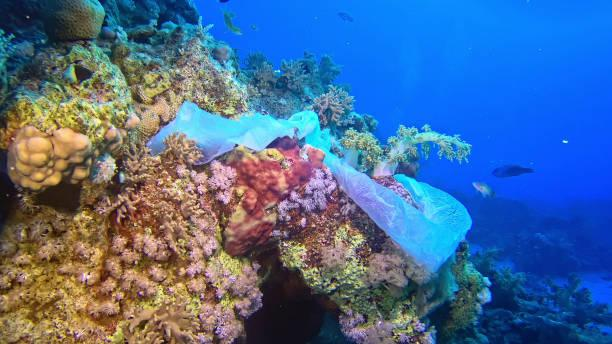Trash: (323, 150, 477, 271), (146, 103, 340, 160)
